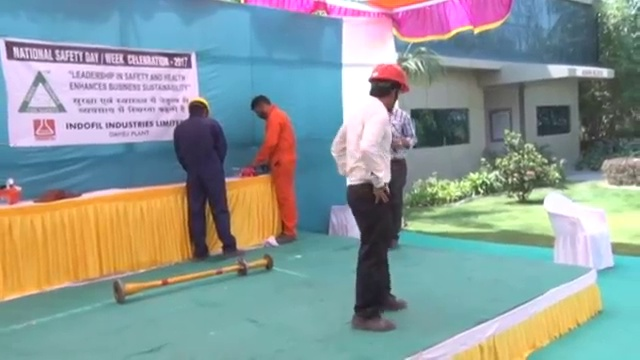helmet: (367, 61, 412, 93), (187, 95, 211, 113)
helmet_off: (249, 90, 273, 120)
helmet_on: (367, 60, 413, 116), (185, 93, 212, 120)
person: (329, 61, 411, 331), (171, 92, 245, 257), (250, 94, 299, 245), (388, 98, 418, 248)
